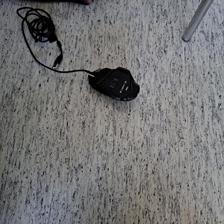mouse: (87, 65, 140, 102)
